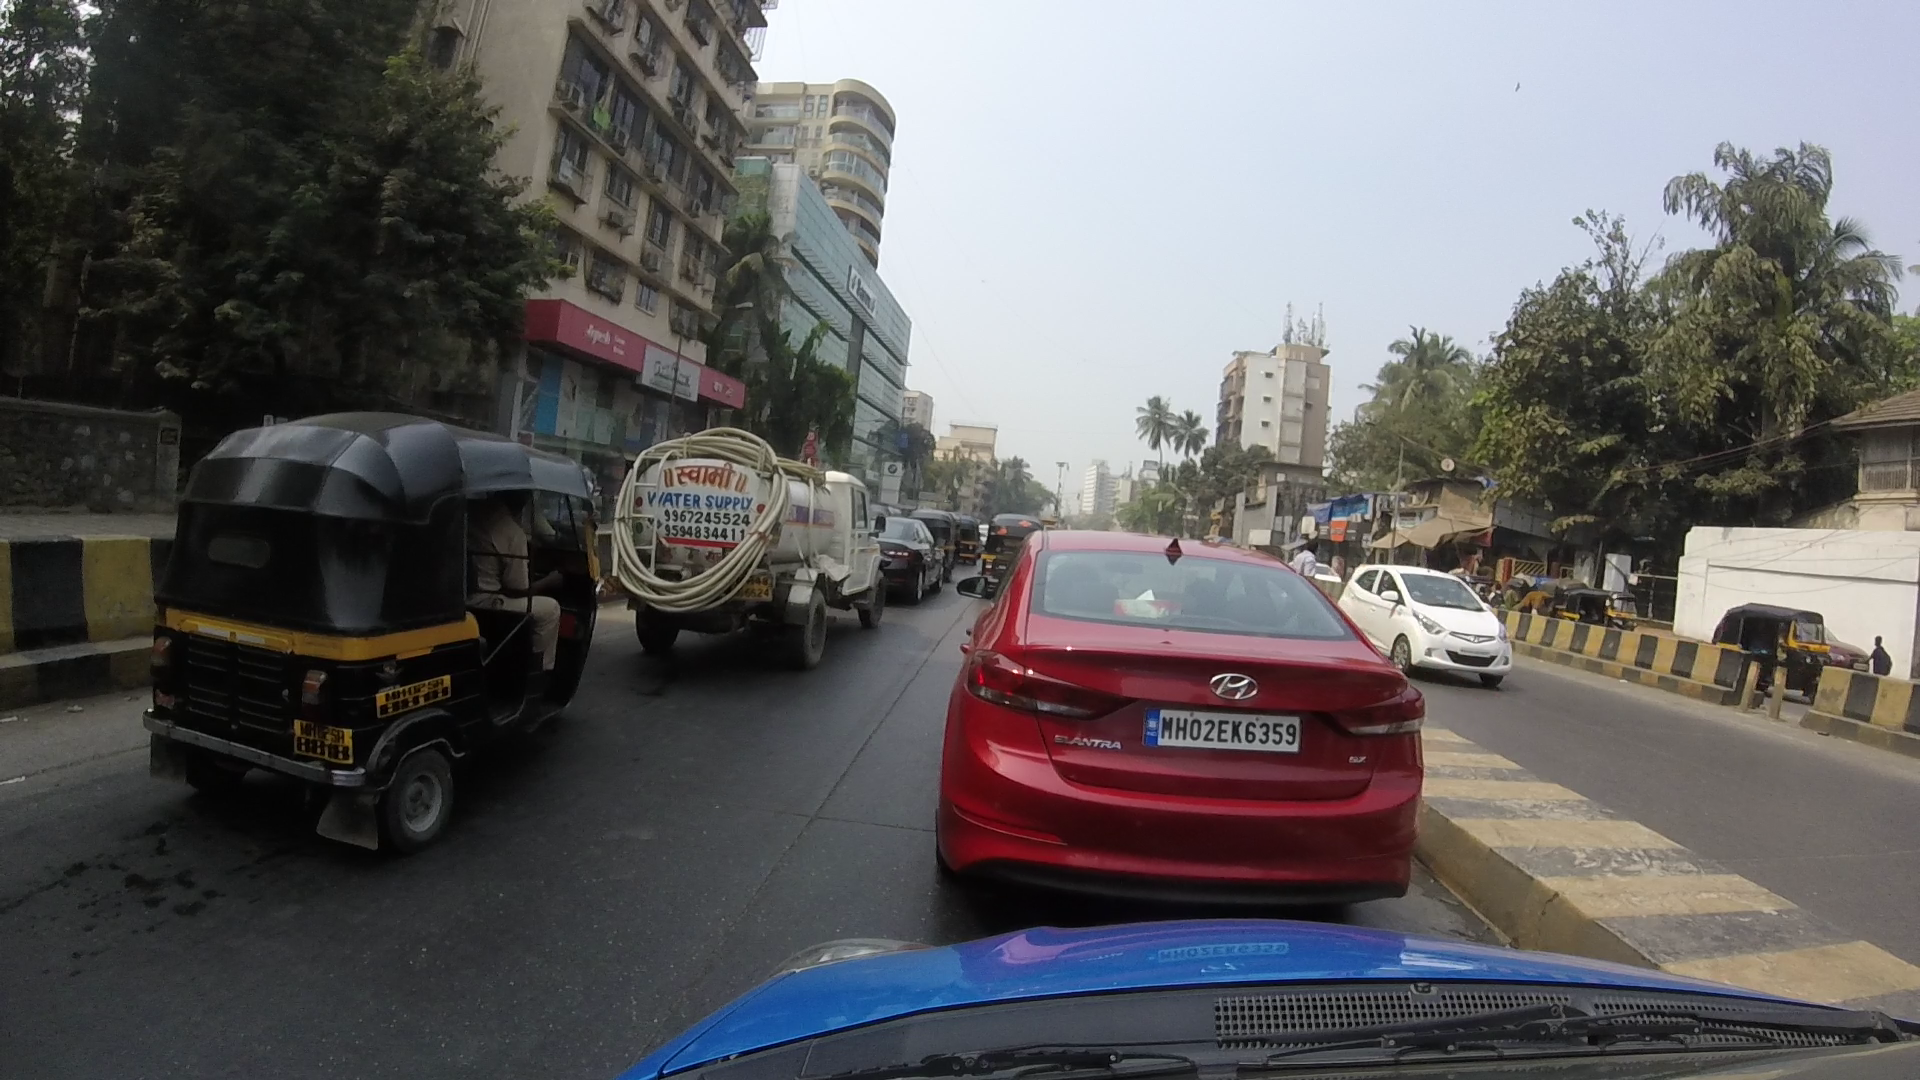car: (934, 472, 1429, 931), (1342, 520, 1520, 680)
rickshaw: (102, 367, 618, 845)
truck: (601, 433, 918, 704)
